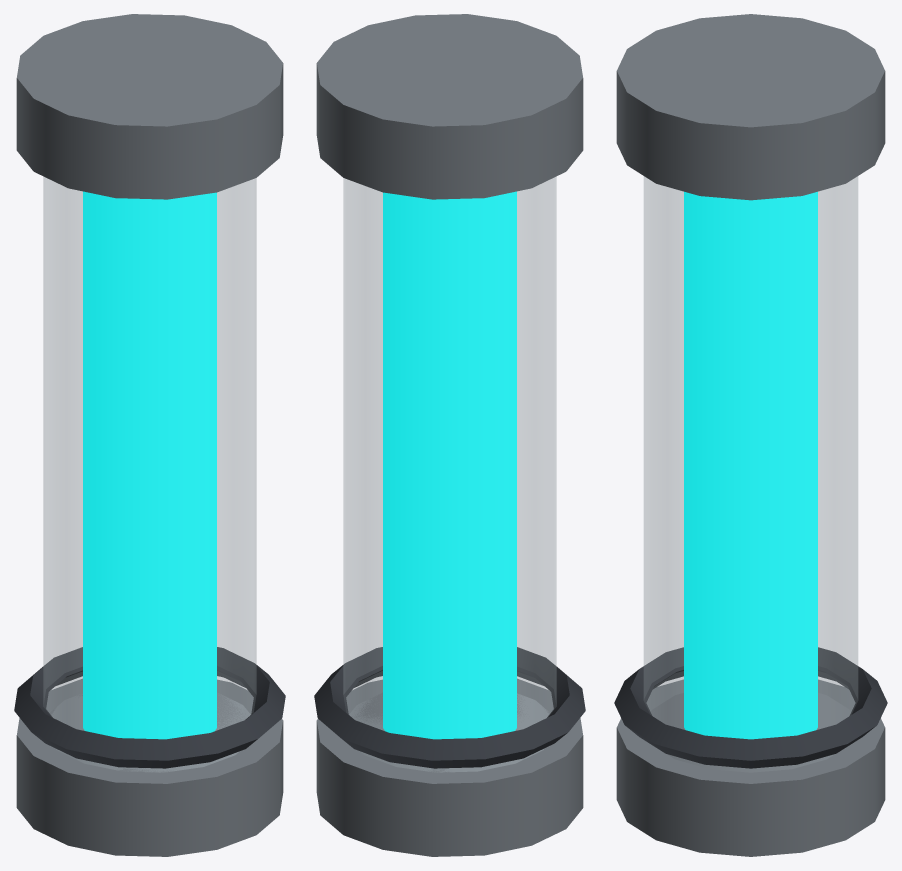
File: rod.glb
3 views of the same model, side by side, from view 1: azimuth 30°, elevation 25°; view 2: azimuth 150°, elevation 25°; view 3: azimuth 270°, elevation 25° (orthographic).
Visible parts, largest first — view 1: Body; view 2: Body; view 3: Body.
Boxes of the visible parts, x1,y1,x2,y2 form: Body: (14,14,285,856); Body: (314,14,585,856); Body: (614,14,887,856).
Size of the model in its own units: 0.102 by 0.3 by 0.102.
